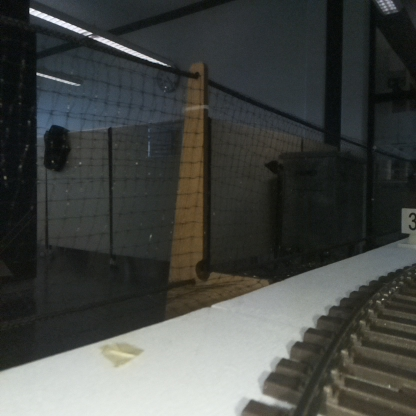white-stop-3: (401, 208, 416, 247)
